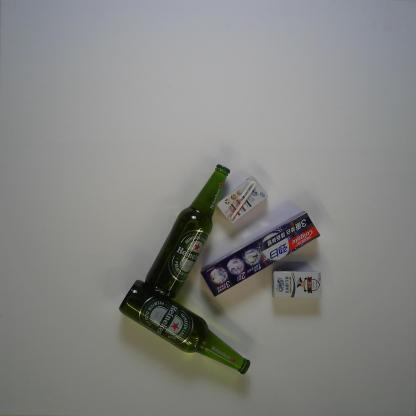Alcohol: (117, 276, 252, 378), (144, 163, 232, 300)
Milk: (217, 176, 270, 224), (271, 268, 323, 301)
Personal Hygiene: (200, 209, 321, 300)
